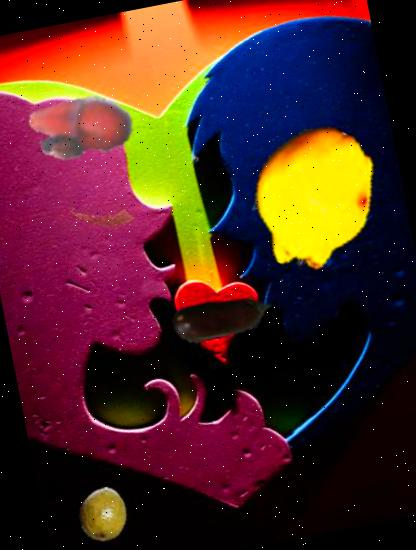Banana: (23, 69, 143, 189)
Eggplant: (162, 256, 284, 378)
Guava: (71, 482, 135, 546)
Quince: (226, 112, 398, 283)
